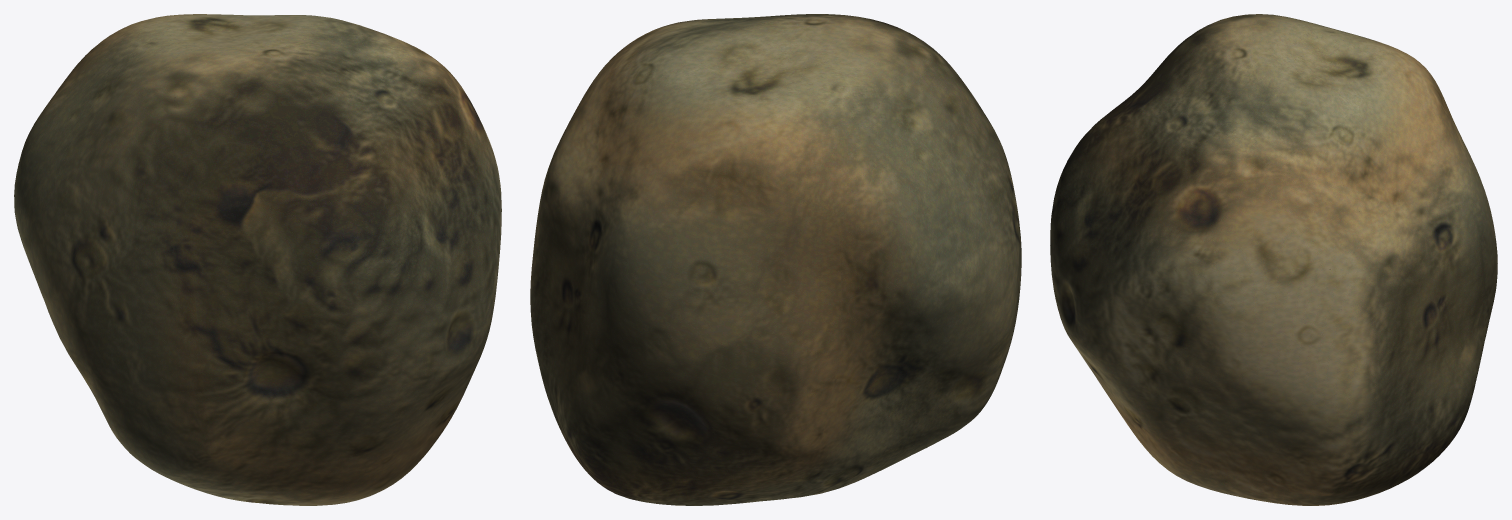
The model's file is 10464_Asteroid_v1_Iterations-2.obj.
3 renders of one model, left to right at view 1: azimuth 30°, elevation 25°; view 2: azimuth 150°, elevation 25°; view 3: azimuth 270°, elevation 25°, orthographic. The views are drawn at different scales.
Parts seen in each view (by area): view 1: 10464_Asteroid_v1; view 2: 10464_Asteroid_v1; view 3: 10464_Asteroid_v1.
Boxes of the visible parts, x1=… form: 10464_Asteroid_v1: x1=14, y1=14, x2=501, y2=505; 10464_Asteroid_v1: x1=530, y1=14, x2=1021, y2=505; 10464_Asteroid_v1: x1=1050, y1=14, x2=1497, y2=505.
Size of the model in its own units: 1365 by 1383 by 1377.
1 material, 1 textured.
